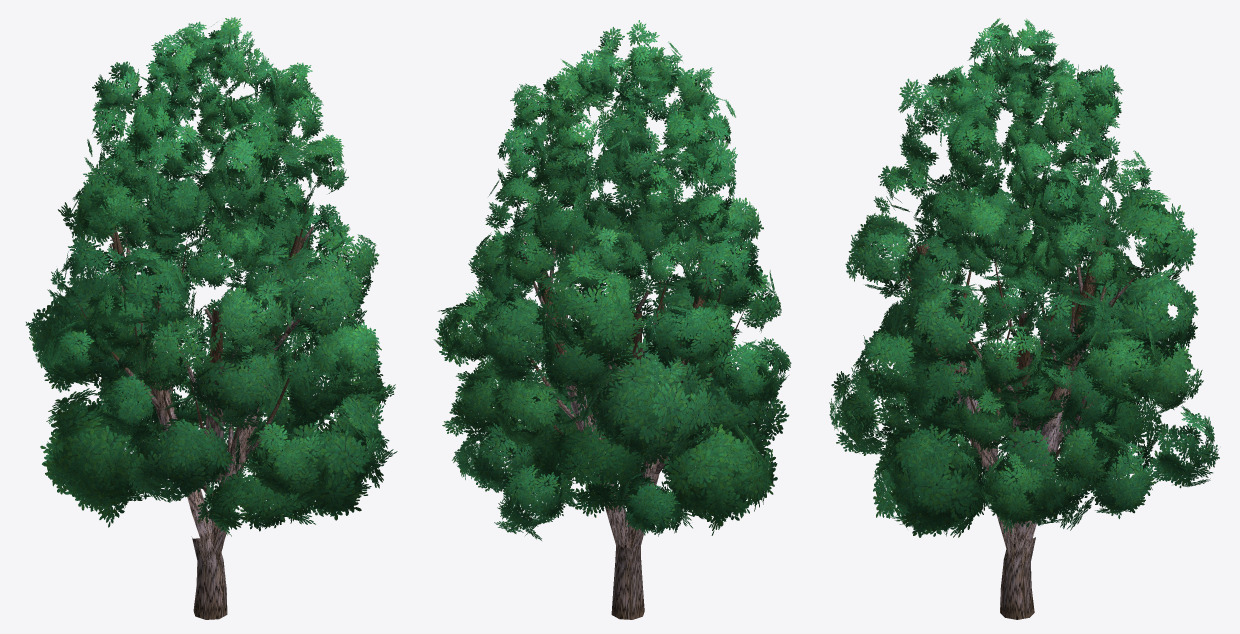
File: mm6_deco_tree25.glb
The picture shows the model from 3 angles, left to right: view 1: azimuth 30°, elevation 25°; view 2: azimuth 150°, elevation 25°; view 3: azimuth 270°, elevation 25°; orthographic projection. The views are drawn at different scales.
Parts seen in each view (by area): view 1: Tree; view 2: Tree; view 3: Tree.
Boxes of the visible parts, x1,y1,x2,y2 form: Tree: [25, 17, 397, 619]; Tree: [434, 20, 791, 619]; Tree: [829, 18, 1219, 619].
Bounding box in the file's own units: 2.02 × 3.38 × 2.06.
2 materials, 2 textured.
